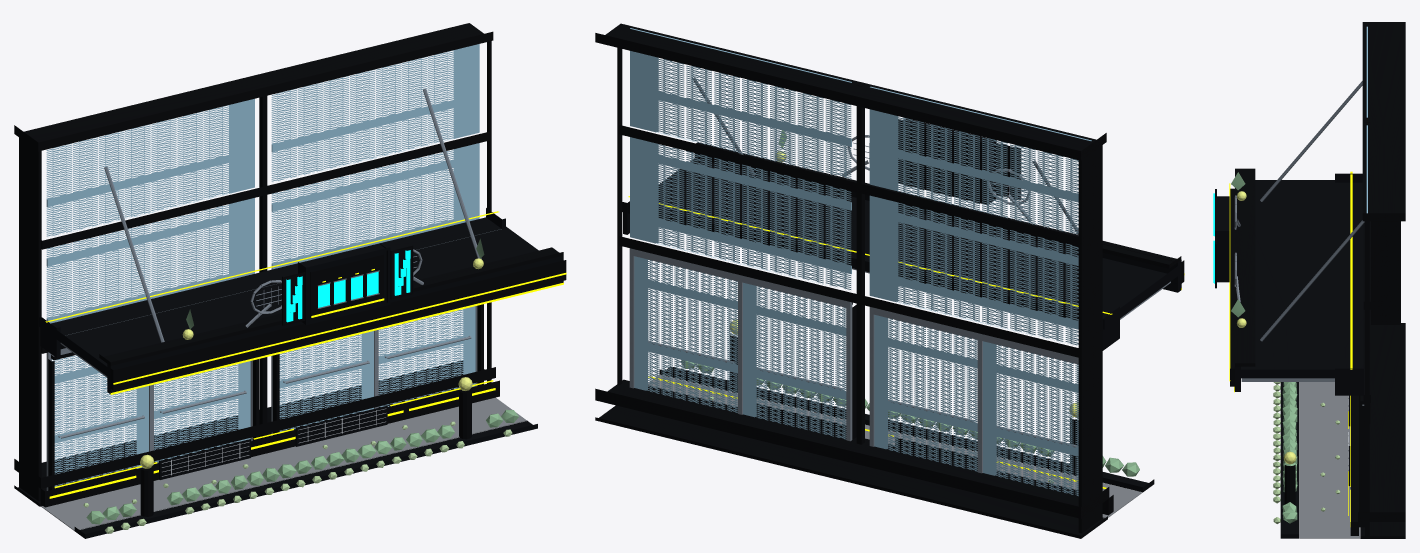
The model's file is tt_food_entrance_n_scissor.glb.
3 renders of one model, left to right at view 1: azimuth 30°, elevation 25°; view 2: azimuth 150°, elevation 25°; view 3: azimuth 270°, elevation 25°, orthographic. The views are drawn at different scales.
Parts seen in each view (by area): view 1: Frame, Upper_11_Scissor, Upper_01_Scissor, Canopy, Upper_10_Scissor, Upper_00_Scissor, Fascia_Gunmetal, Threshold_Mat, Door_00_Scissor, Door_11_Scissor, Door_01_Scissor, Door_10_Scissor (+19 smaller); view 2: Frame, Canopy, Upper_10_Scissor, Upper_00_Scissor, Upper_11_Scissor, Upper_01_Scissor, Door_10_Scissor, Door_01_Scissor, Door_11_Scissor, Door_00_Scissor, Door_Stiles, Scoreboard (+7 smaller); view 3: Frame, Canopy, Threshold_Mat, Fascia_Gunmetal, Hedge_Edge, Terrace_Kerb, Scoreboard, Tie_Rods, Court_Line_LED, Hedge_Edge_Light, Ball_Bollards, Canopy_Soffit (+2 smaller).
Part boxes in pixels (x1,y1,x2,y2): Frame: (14,23,499,507); Upper_11_Scissor: (271,44,479,181); Upper_01_Scissor: (46,98,254,236); Canopy: (39,208,538,375); Upper_10_Scissor: (271,143,479,269); Upper_00_Scissor: (46,198,254,323); Fascia_Gunmetal: (99,247,566,390); Threshold_Mat: (41,397,527,530); Door_00_Scissor: (52,355,148,486); Door_11_Scissor: (378,306,475,406); Door_01_Scissor: (154,361,250,463); Door_10_Scissor: (279,331,373,431); Frame: (595,23,1113,538); Canopy: (622,159,1177,350); Upper_10_Scissor: (630,137,851,289); Upper_00_Scissor: (869,195,1078,345); Upper_11_Scissor: (630,28,851,178); Upper_01_Scissor: (869,86,1091,233); Door_10_Scissor: (743,282,846,439); Door_01_Scissor: (874,315,977,471); Door_11_Scissor: (634,256,737,412); Door_00_Scissor: (983,341,1078,496); Door_Stiles: (629,248,1078,473); Scoreboard: (898,119,996,204); Frame: (1350,22,1405,538); Canopy: (1240,173,1363,395); Threshold_Mat: (1299,382,1359,538); Fascia_Gunmetal: (1230,168,1255,386); Hedge_Edge: (1282,382,1297,523); Terrace_Kerb: (1280,382,1299,538); Scoreboard: (1215,196,1229,282); Tie_Rods: (1260,81,1364,341); Court_Line_LED: (1229,171,1352,392); Hedge_Edge_Light: (1273,382,1280,523); Ball_Bollards: (1284,464,1295,505); Canopy_Soffit: (1241,378,1334,381).
Size of what is drawn, in the model's own units: 8 by 6.1 by 3.26.
12 materials, 6 textured.
